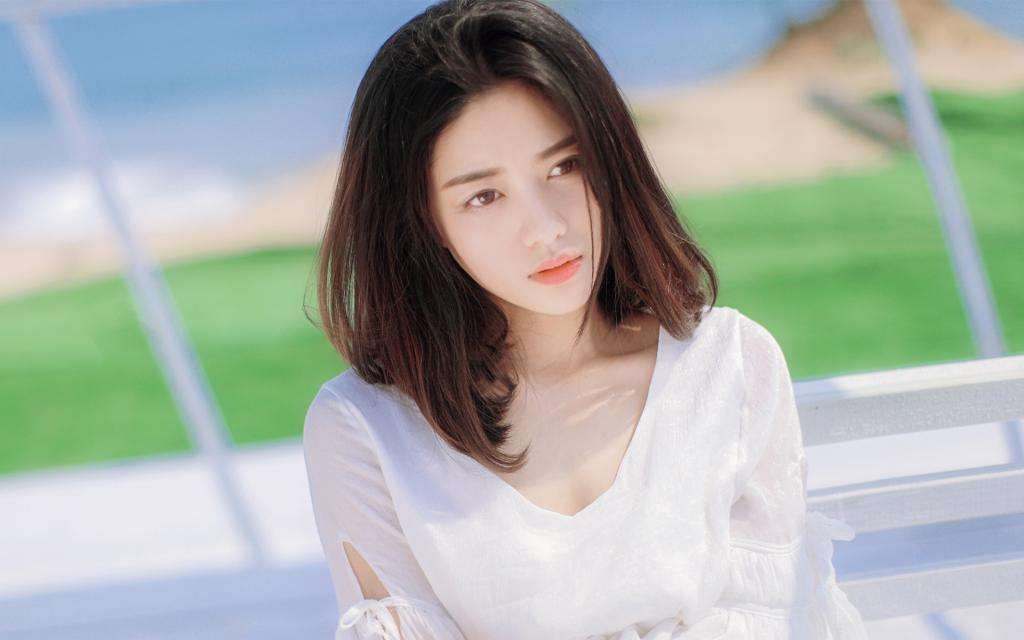person: (195, 24, 929, 592)
